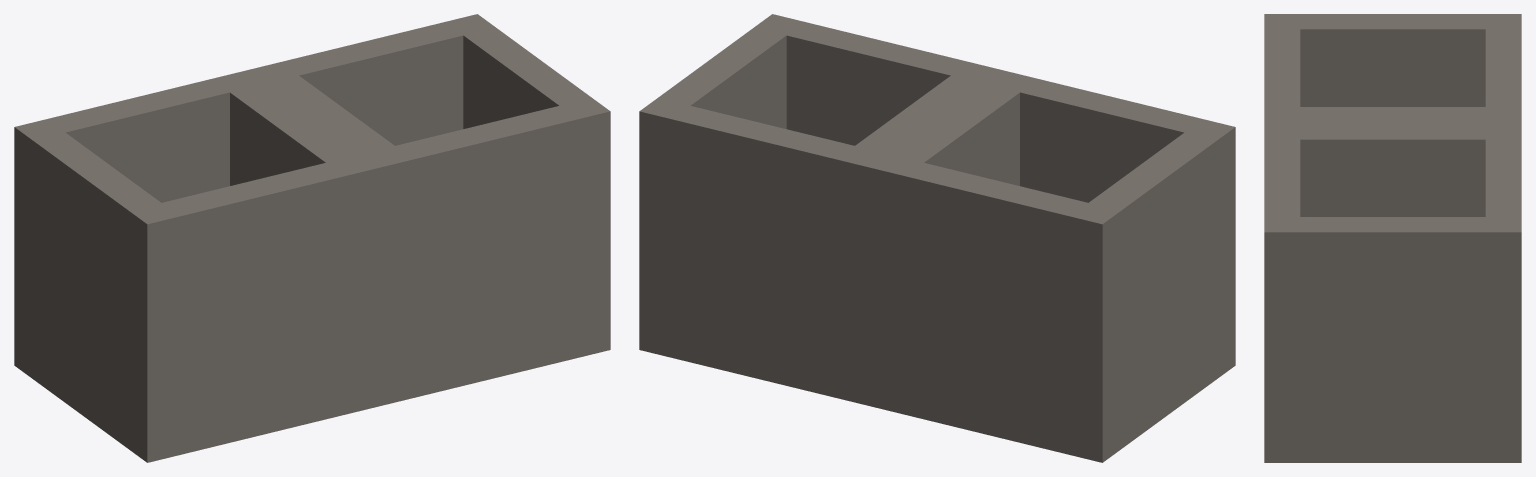
File: Brick_Cinder.fbx
3 views of the same model, side by side, from view 1: azimuth 30°, elevation 25°; view 2: azimuth 150°, elevation 25°; view 3: azimuth 270°, elevation 25° (orthographic). The views are drawn at different scales.
Parts seen in each view (by area): view 1: Brick_Cinder; view 2: Brick_Cinder; view 3: Brick_Cinder.
Boxes of the visible parts, left/top/right/bottom form: Brick_Cinder: left=14, top=14, right=610, bottom=462; Brick_Cinder: left=639, top=14, right=1235, bottom=462; Brick_Cinder: left=1264, top=14, right=1521, bottom=462.
Bounding box in the file's own units: 0.4018 × 0.1978 × 0.1999.
